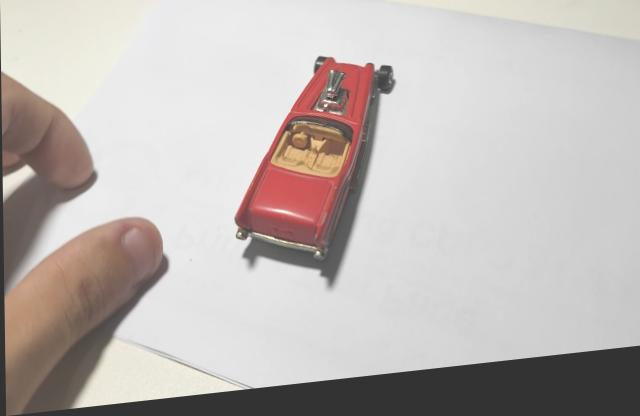03_V8: (233, 65, 395, 269)
